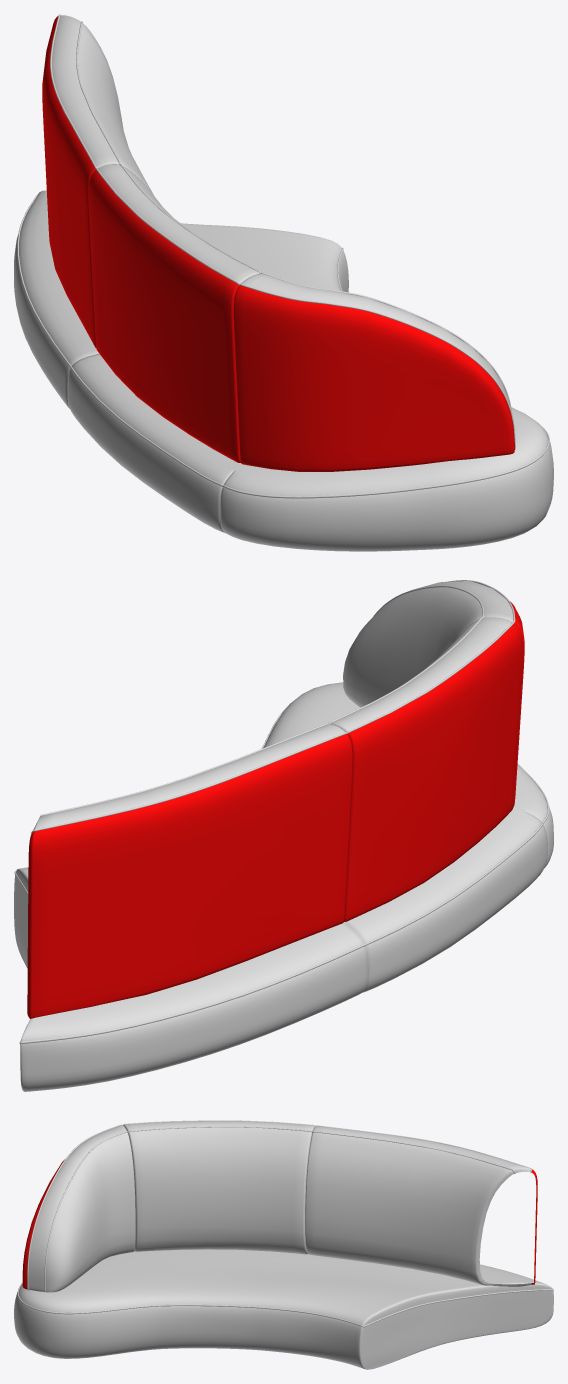
File: levante_s_female_mirror.gltf
The picture shows the model from 3 angles, top to bottom: view 1: azimuth 30°, elevation 25°; view 2: azimuth 150°, elevation 25°; view 3: azimuth 270°, elevation 25°; orthographic projection. The views are drawn at different scales.
Parts seen in each view (by area): view 1: levante_s_female001; view 2: levante_s_female001; view 3: levante_s_female001.
Boxes of the visible parts, <box> form: levante_s_female001: <box>14,14,553,551</box>; levante_s_female001: <box>14,580,553,1091</box>; levante_s_female001: <box>14,1120,553,1369</box>.
Bounding box in the file's own units: 0.9381 × 0.6989 × 2.08.
